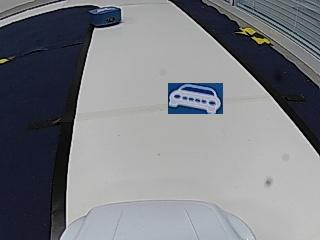prop: (88, 6, 121, 27)
